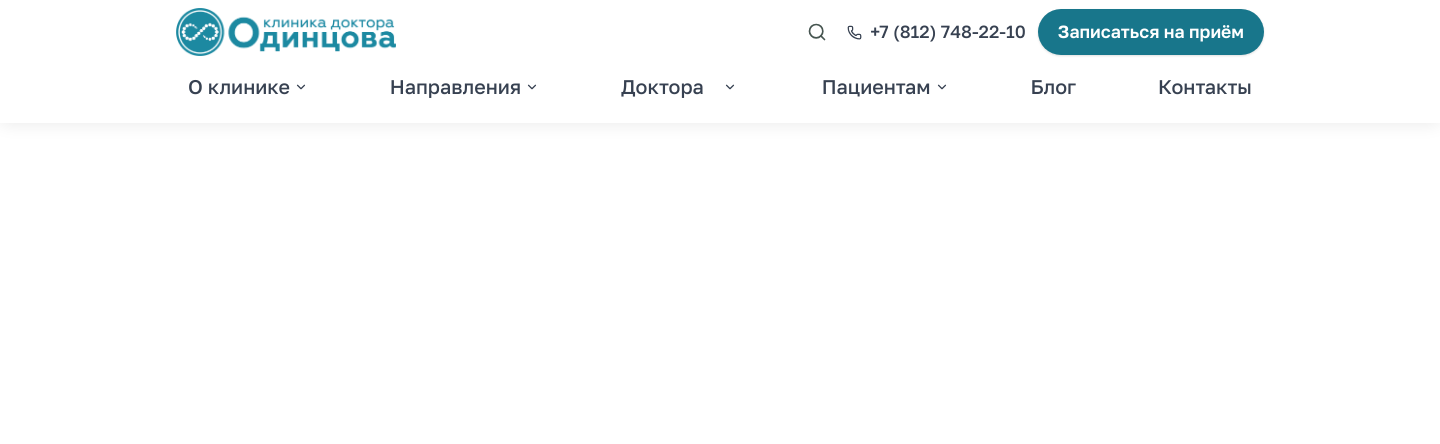
Test: Header › closes mega-menu on Escape
Focus the button "Направления". click: (464, 87)
box: [378,64,551,111]
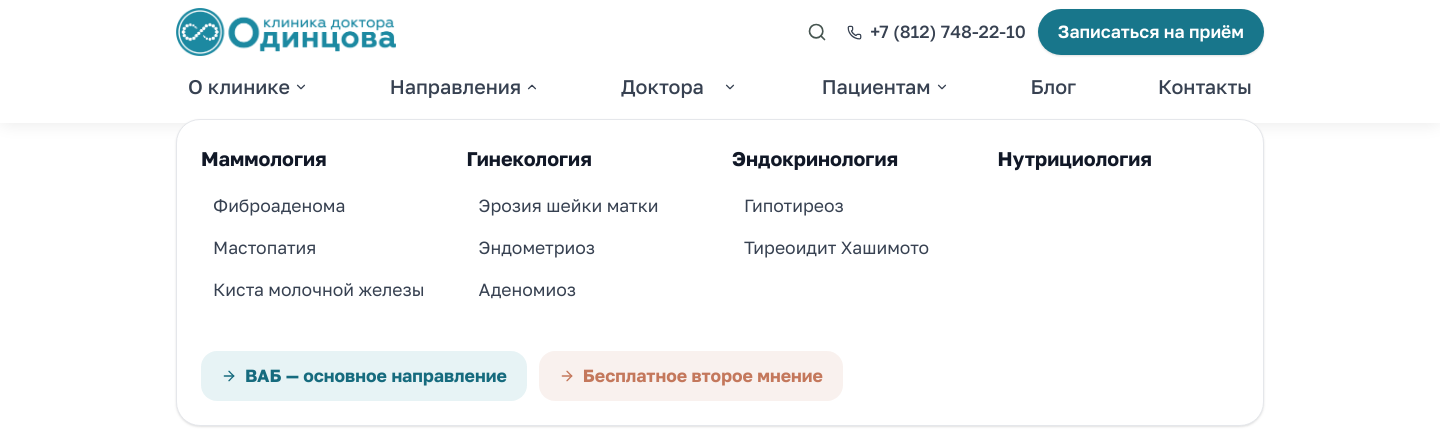
Press Escape in the button "Направления", box [378,64,551,111]
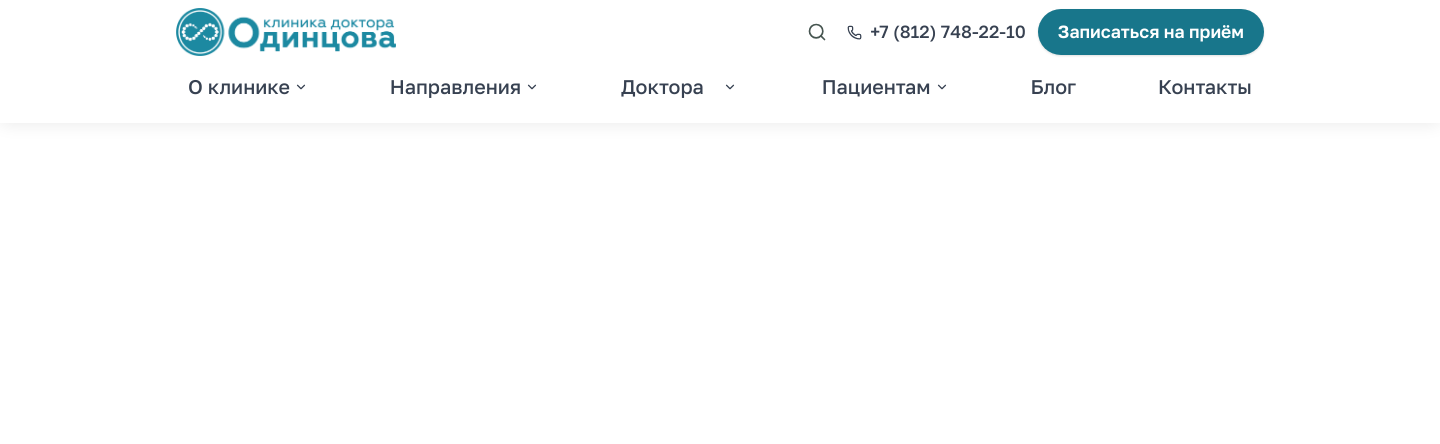
Result: the menu item "Маммология" is gone
